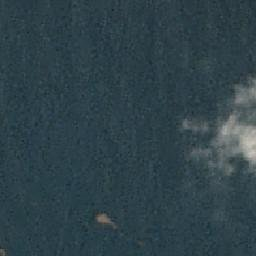cloud: (178, 74, 256, 176)
debris: (92, 210, 119, 229)
